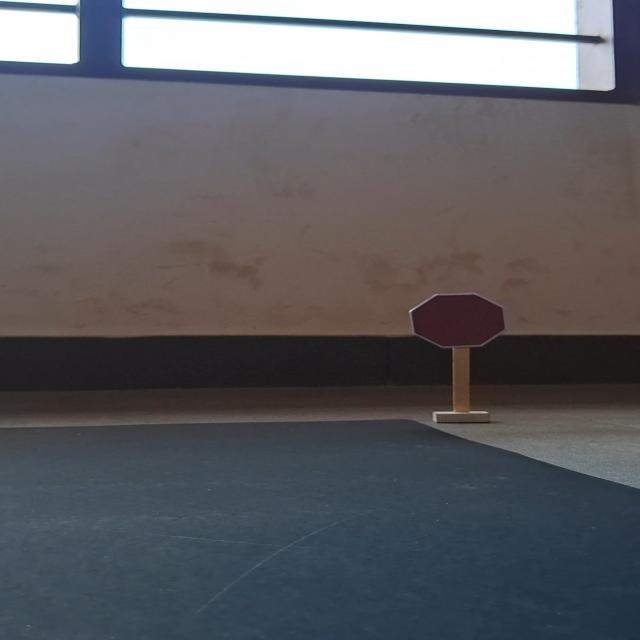Stop: (408, 292, 508, 348)
